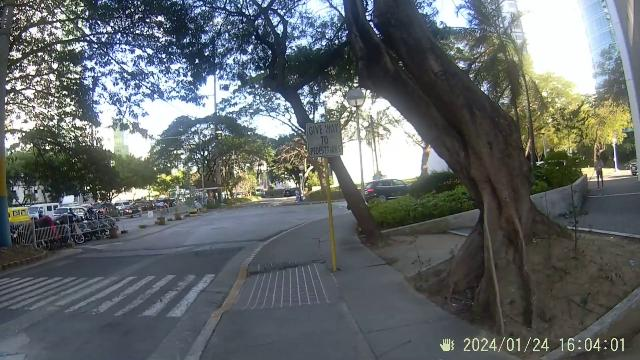lamp_post: (346, 86, 366, 182)
street_sign: (306, 123, 346, 265)
tree: (394, 32, 570, 326)
